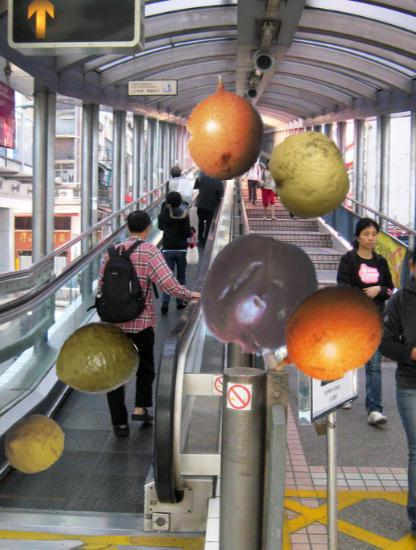Apple: (265, 131, 354, 220)
Granadilla: (255, 270, 390, 405), (172, 75, 278, 181)
Guava: (54, 318, 137, 401)
Lemon: (3, 412, 67, 476)
Passion: (196, 233, 322, 359)
